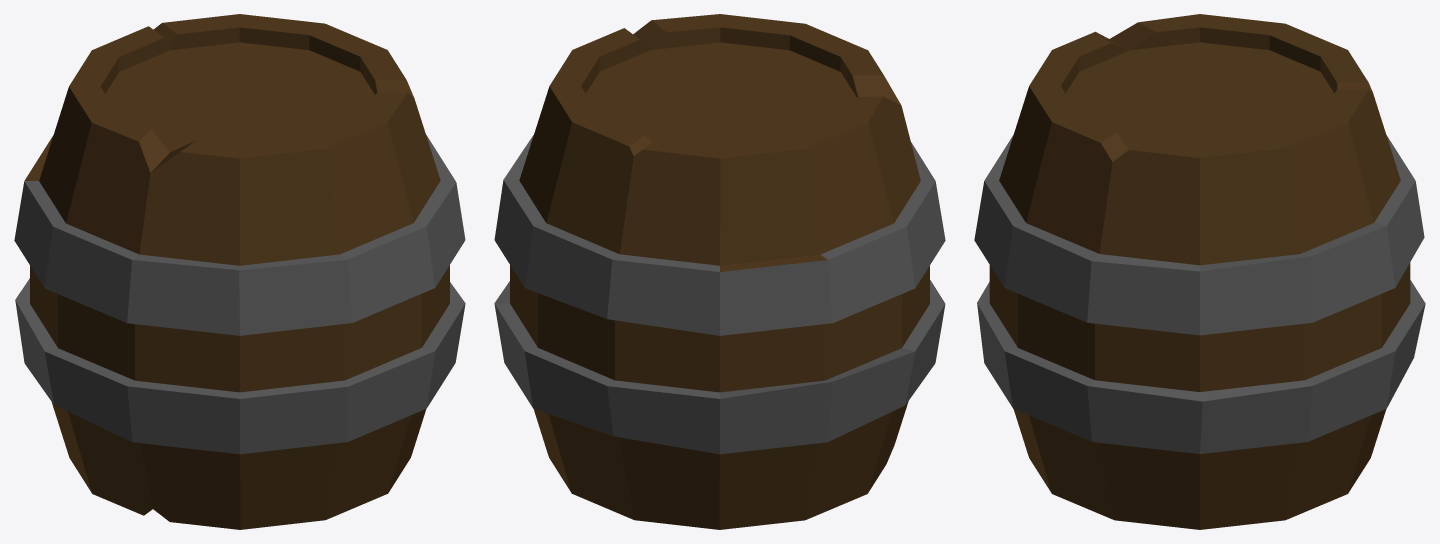
Rendered from dungeon.fbx_Barrel.fbx.
The picture shows the model from 3 angles, left to right: view 1: azimuth 30°, elevation 25°; view 2: azimuth 150°, elevation 25°; view 3: azimuth 270°, elevation 25°; orthographic projection.
Parts seen in each view (by area): view 1: Barrel; view 2: Barrel; view 3: Barrel.
Part boxes in pixels (box(x1,y1,x2,y2)): Barrel: box(14, 14, 465, 529); Barrel: box(494, 14, 945, 529); Barrel: box(974, 14, 1425, 529).
Bounding box in the file's own units: 132 × 120 × 132.
